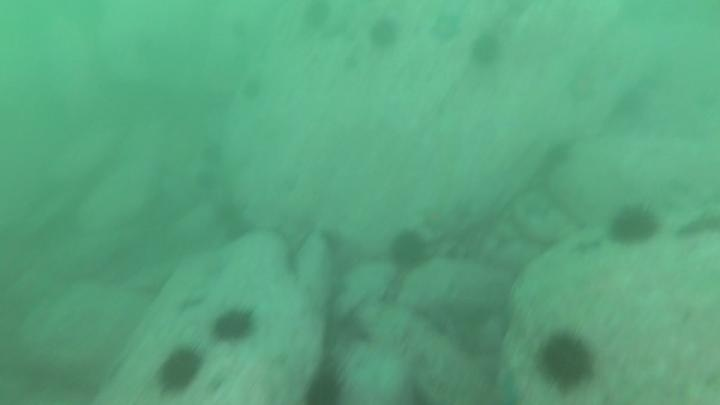echinus: (534, 328, 599, 393), (606, 201, 662, 249), (154, 344, 205, 396), (209, 304, 258, 346), (386, 228, 431, 273), (301, 367, 348, 404), (468, 30, 505, 69), (366, 16, 402, 52), (540, 138, 577, 173), (299, 1, 334, 31), (238, 75, 266, 104)
starfish: (562, 67, 602, 108), (425, 10, 466, 48), (492, 365, 526, 405), (416, 202, 455, 236), (197, 250, 232, 282), (172, 289, 209, 318)
